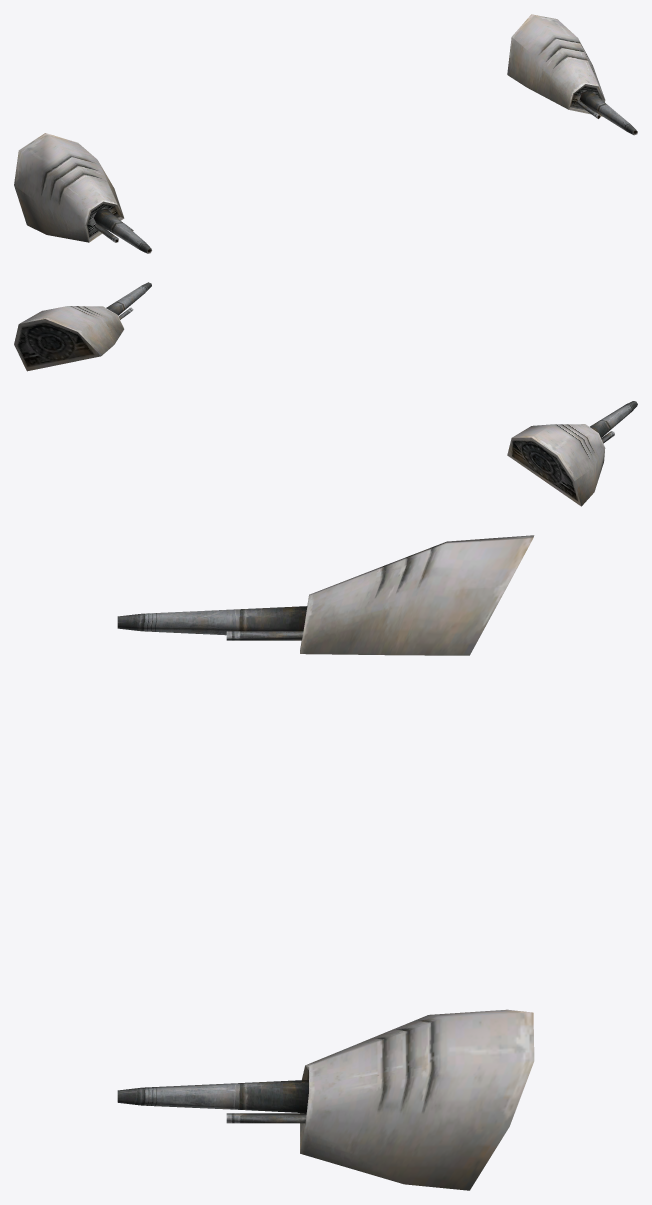
Rendered from hutt_fighter_light_weapon_s01_l1.fbx.
3 renders of one model, top to bottom at view 1: azimuth 30°, elevation 25°; view 2: azimuth 150°, elevation 25°; view 3: azimuth 270°, elevation 25°, orthographic. The views are drawn at different scales.
Visible parts, largest first — view 1: mesh_node; view 2: mesh_node; view 3: mesh_node.
Boxes of the visible parts, <box> form: mesh_node: <box>14,14,637,253</box>; mesh_node: <box>14,282,637,506</box>; mesh_node: <box>117,535,534,1190</box>.
Size of the model in its own units: 3.75 by 0.4625 by 1.21.
1 material, 1 textured.
